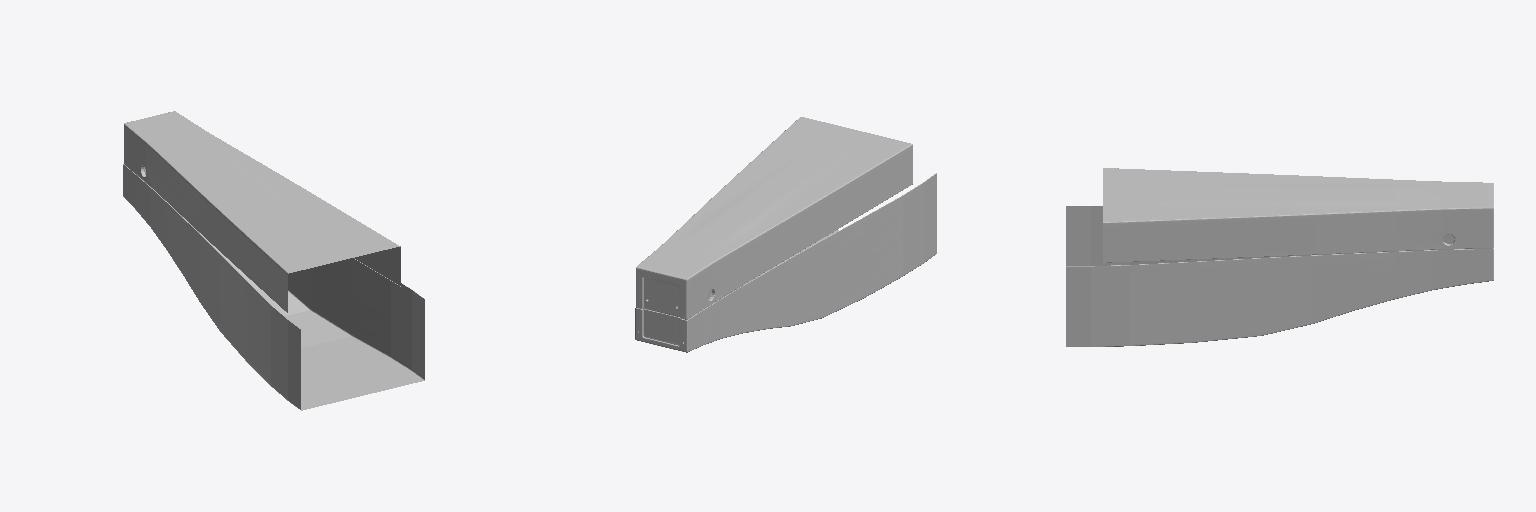
The model's file is Engine.obj.
3 views of the same model, side by side, from view 1: azimuth 30°, elevation 25°; view 2: azimuth 150°, elevation 25°; view 3: azimuth 270°, elevation 25° (orthographic).
Parts seen in each view (by area): view 1: Engine_group__Spark_Renault_SRT_01E_edge_trasm; view 2: Engine_group__Spark_Renault_SRT_01E_edge_trasm; view 3: Engine_group__Spark_Renault_SRT_01E_edge_trasm.
Part boxes in pixels (bbox=[...]): Engine_group__Spark_Renault_SRT_01E_edge_trasm: bbox=[123, 111, 424, 410]; Engine_group__Spark_Renault_SRT_01E_edge_trasm: bbox=[635, 117, 936, 352]; Engine_group__Spark_Renault_SRT_01E_edge_trasm: bbox=[1066, 168, 1493, 346].
Bounding box in the file's own units: 0.2879 × 0.2721 × 0.8585.